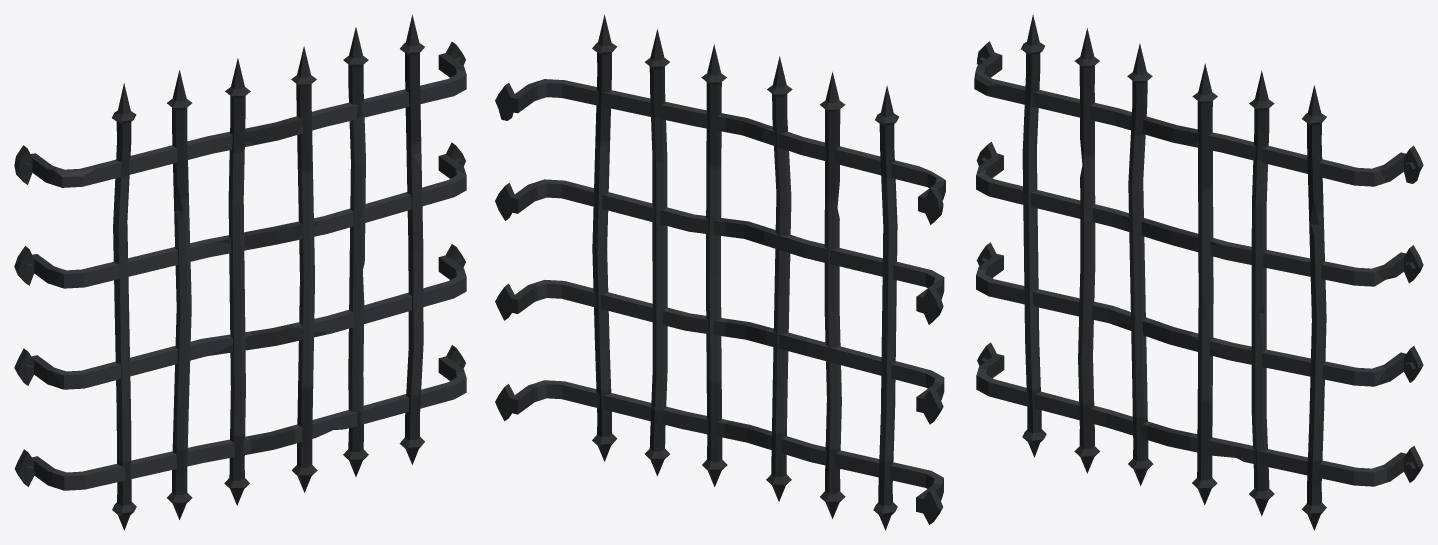
File: SM_Bld_Wall_Window_Bars_03.fbx
The picture shows the model from 3 angles, left to right: view 1: azimuth 30°, elevation 25°; view 2: azimuth 150°, elevation 25°; view 3: azimuth 330°, elevation 25°; orthographic projection.
Parts seen in each view (by area): view 1: SM_Bld_Wall_Window_Bars_03; view 2: SM_Bld_Wall_Window_Bars_03; view 3: SM_Bld_Wall_Window_Bars_03.
Boxes of the visible parts, left/top/right/bottom form: SM_Bld_Wall_Window_Bars_03: left=14, top=14, right=466, bottom=530; SM_Bld_Wall_Window_Bars_03: left=495, top=14, right=945, bottom=530; SM_Bld_Wall_Window_Bars_03: left=974, top=14, right=1423, bottom=530.
Bounding box in the file's own units: 248 × 239 × 37.11.
